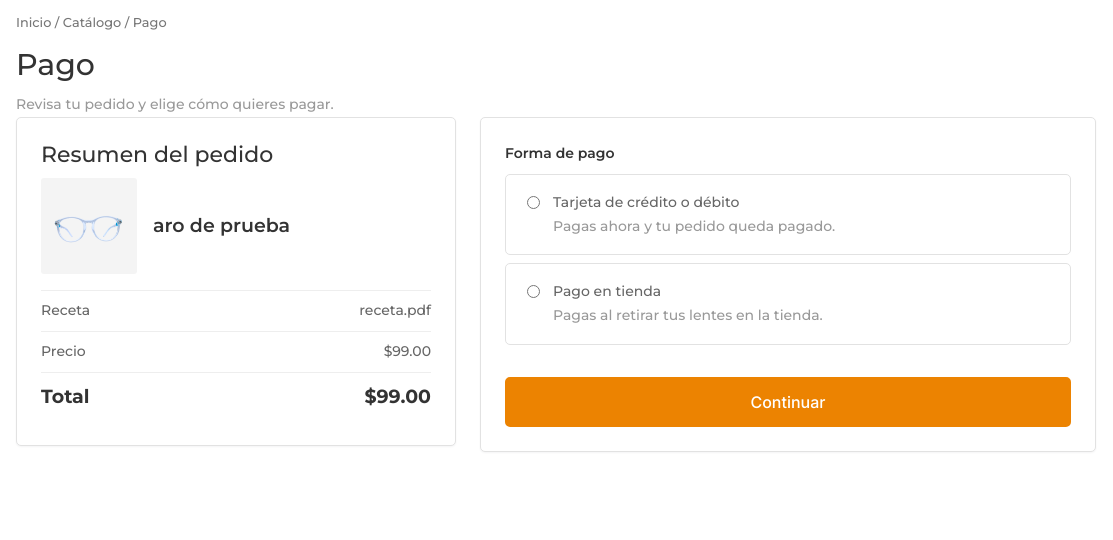
it: PaymentPage: resumen y selector › no deja continuar sin forma de pago (E2)
What coordinates should you click on to do the following:
click the button "Continuar"
I would click on:
 (788, 402)
Its box is [505, 377, 1071, 427].
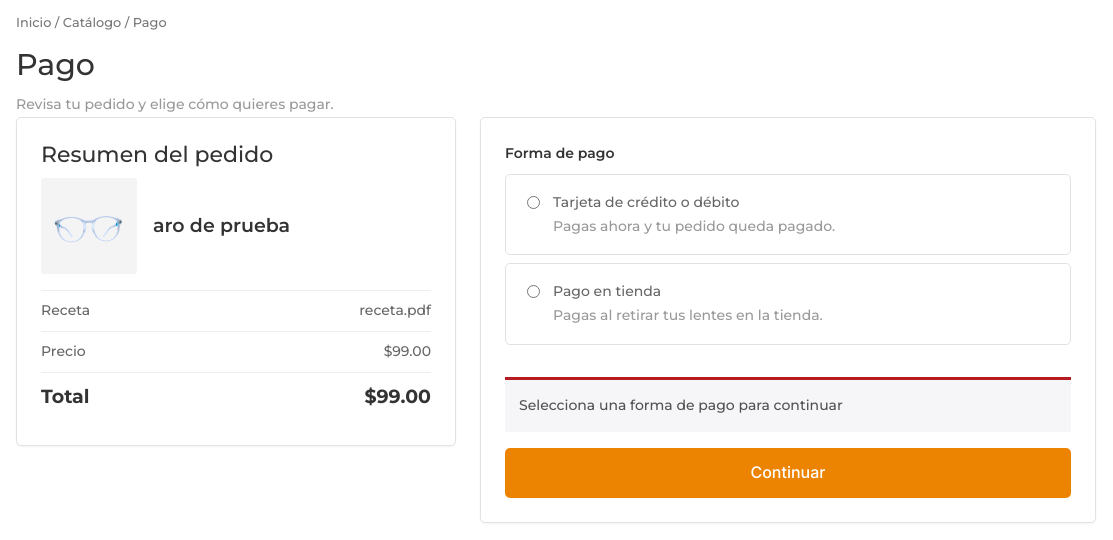
Check: the message reads "Selecciona una forma de pago para continuar", box [519, 396, 843, 414]
